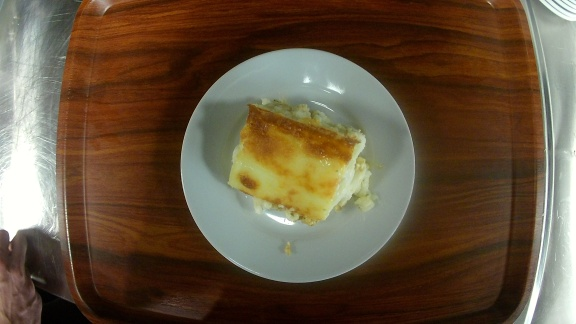firinmakarna: (179, 46, 419, 284)
